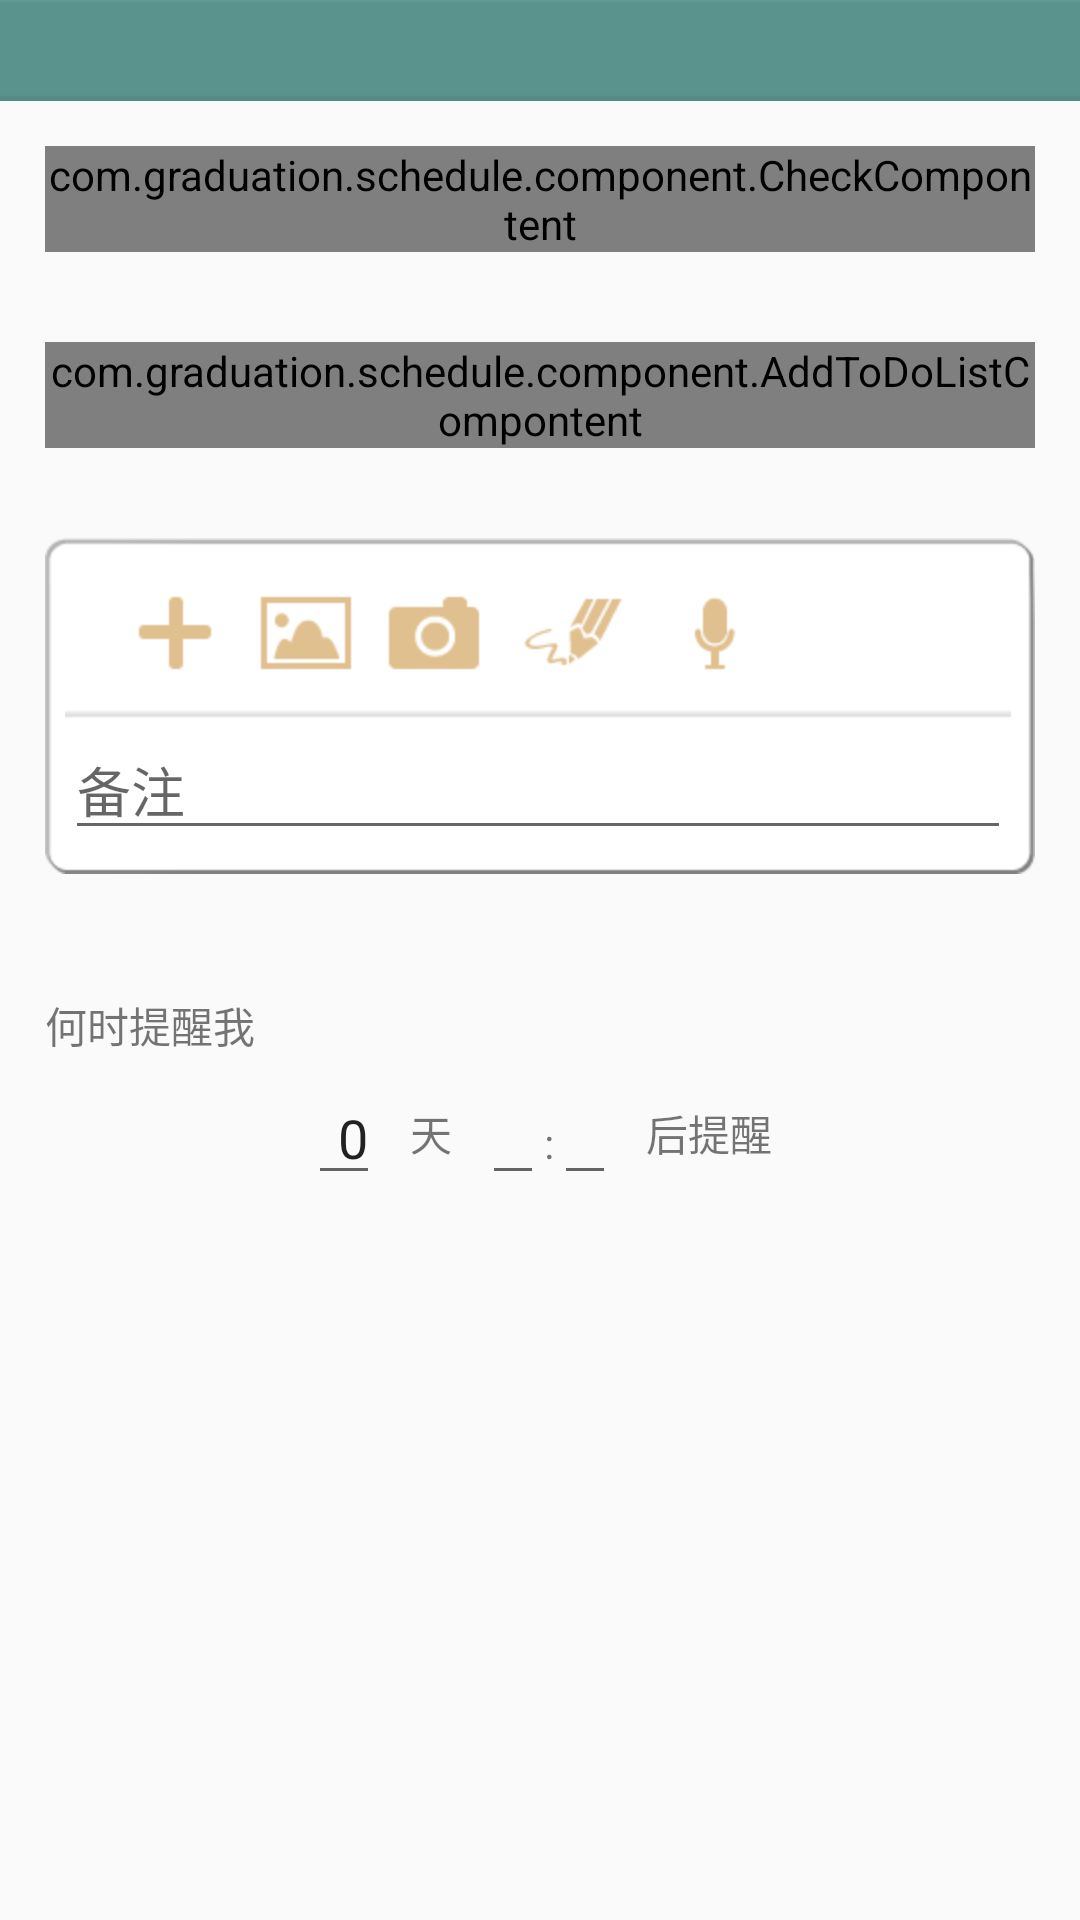

Where icons sit on this 1080 × 1920 app screen, as (x1, y1, x2, y2):
add: (138, 596, 212, 670)
add camera: (388, 596, 480, 670)
add draw seloctor: (525, 598, 622, 666)
add picture: (260, 596, 352, 670)
add record: (694, 598, 735, 670)
